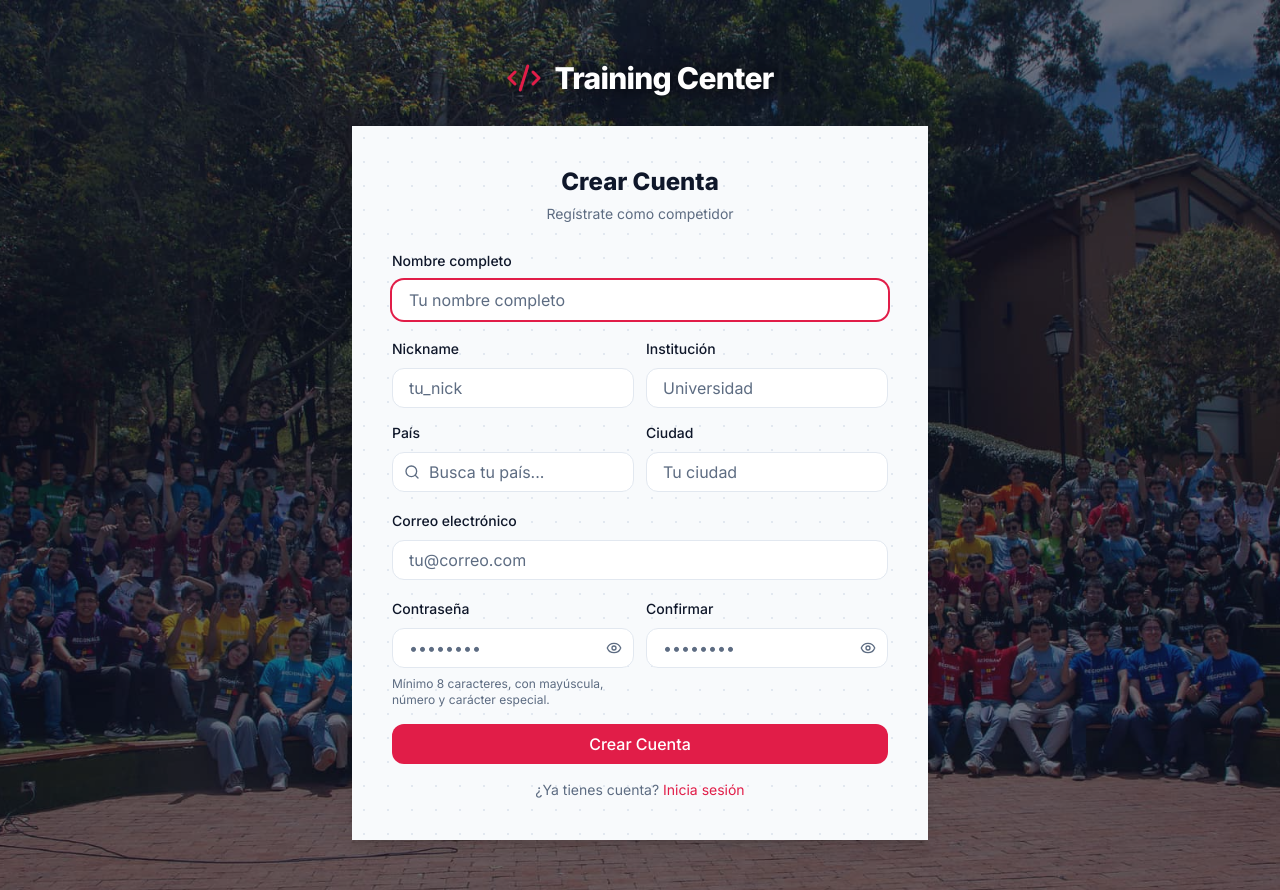
RegisterPage › shows validation errors on empty submit
Click the button "Crear Cuenta": (640,744) x1=392 y1=724 x2=888 y2=764
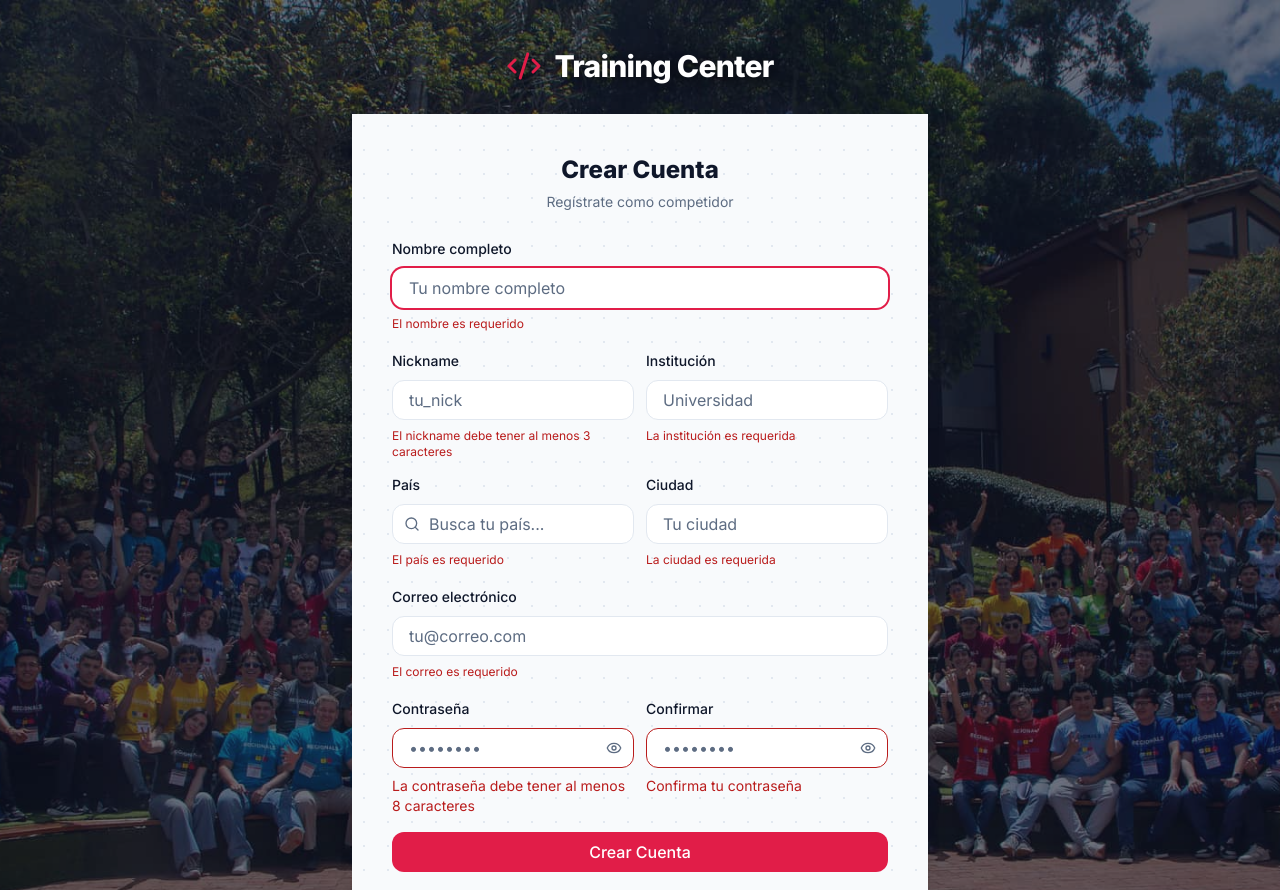
Result: the text "El correo es requerido" is shown at x1=392 y1=664 x2=518 y2=679
Result: the text "El nombre es requerido" is shown at x1=392 y1=316 x2=524 y2=331
